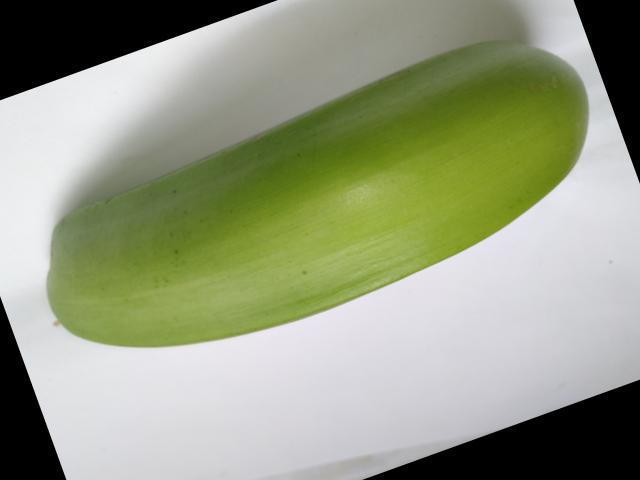freshunripe: (24, 25, 614, 361)
